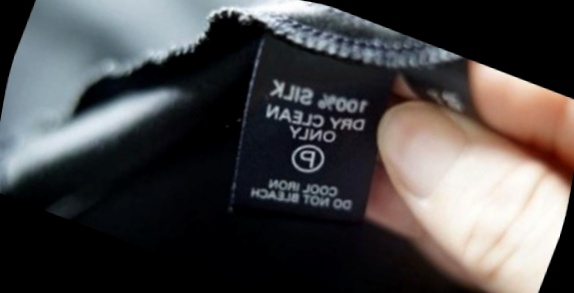dry_clean_any_solvent_except_trichloroethylene: (281, 133, 333, 182)
